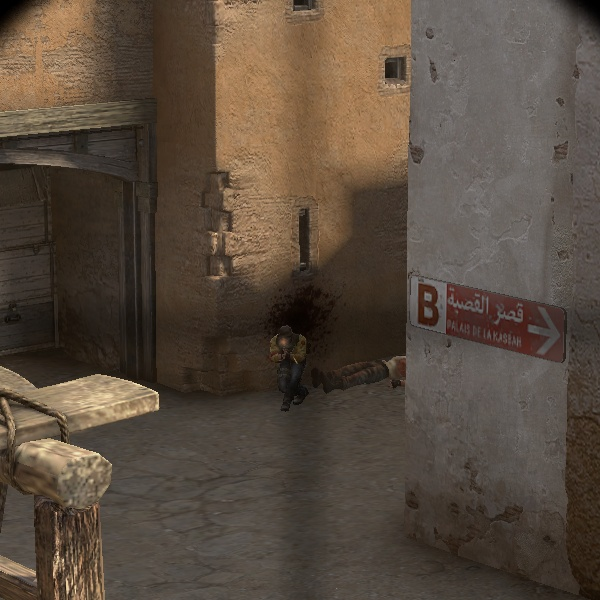t_body: (265, 324, 312, 407)
t_head: (277, 324, 294, 347)
